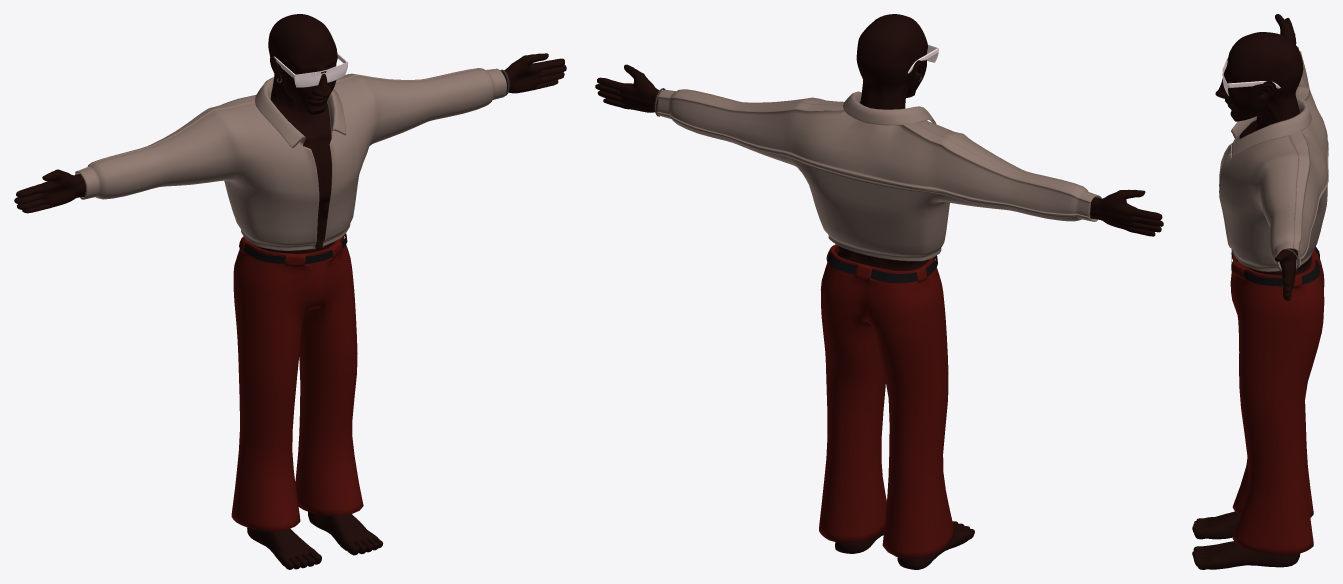
Rendered from mesh_sketchfab.fbx.
3 renders of one model, left to right at view 1: azimuth 30°, elevation 25°; view 2: azimuth 150°, elevation 25°; view 3: azimuth 270°, elevation 25°, orthographic. The views are drawn at different scales.
Visible parts, largest first — view 1: pant, veste, face; view 2: veste, pant, face, pant001; view 3: pant, veste, face, pant001, glass_stick_L.
Boxes of the visible parts, x1=… form: pant: x1=231, y1=235, x2=363, y2=531; veste: x1=75, y1=68, x2=506, y2=250; face: x1=14, y1=14, x2=566, y2=569; veste: x1=657, y1=89, x2=1101, y2=261; pant: x1=819, y1=244, x2=954, y2=558; face: x1=595, y1=14, x2=1163, y2=569; pant001: x1=827, y1=252, x2=937, y2=283; pant: x1=1230, y1=248, x2=1324, y2=554; veste: x1=1219, y1=46, x2=1328, y2=271; face: x1=1192, y1=14, x2=1311, y2=569; pant001: x1=1231, y1=246, x2=1319, y2=286; glass_stick_L: x1=1227, y1=81, x2=1280, y2=88.
Bounding box in the file's own units: 84.58 × 75.95 × 18.33.
